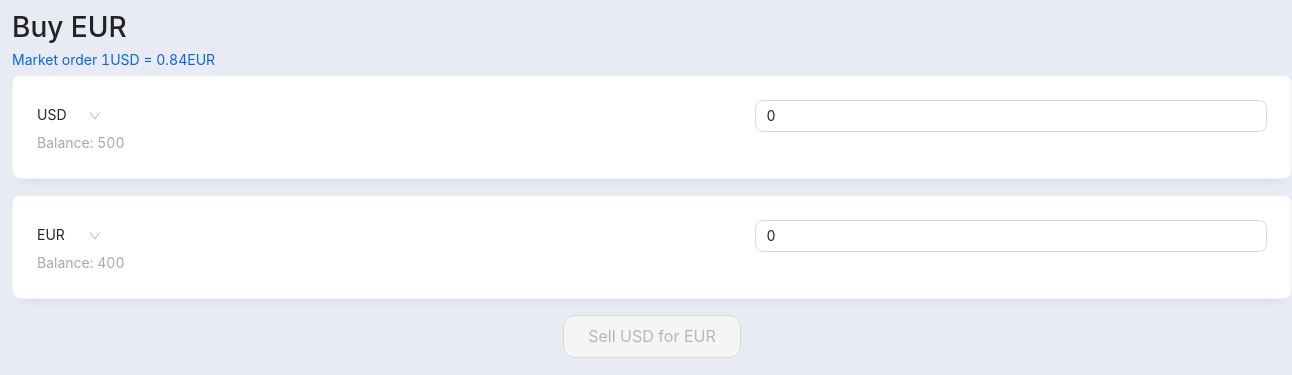
Scenario: After data fetching › Input validation › Should trim base input value to 2 decimals
Step 1. Type "22.333" into the 1st field with placeholder "0" → (1011, 116), box [754, 100, 1267, 132]
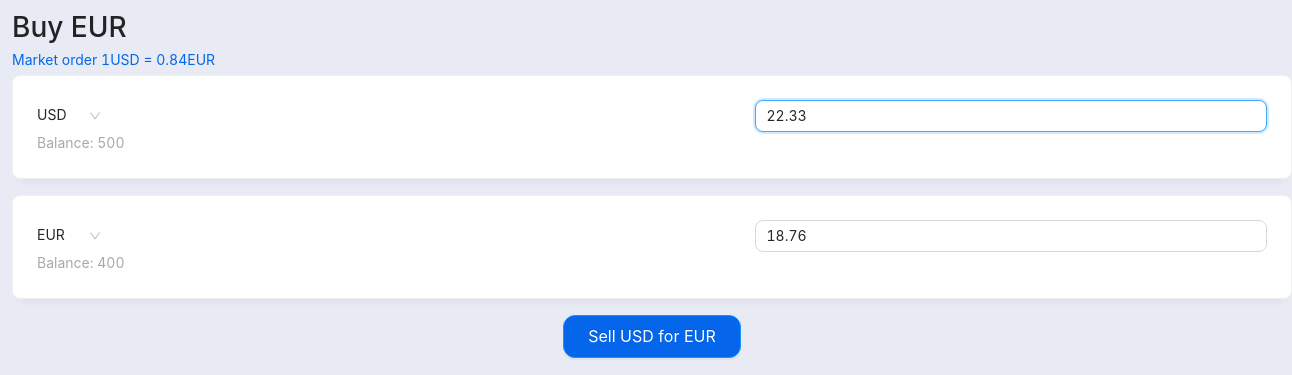
Result: the 1st field with placeholder "0" holds "22.33" at [754, 100, 1267, 132]
